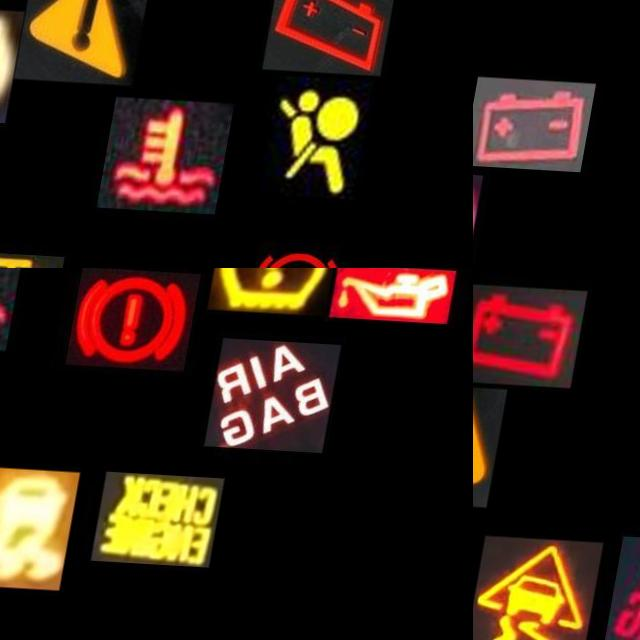Central Warning lamp: (20, 0, 155, 81), (473, 382, 518, 504)
Engine cooling system: (108, 93, 242, 210)
